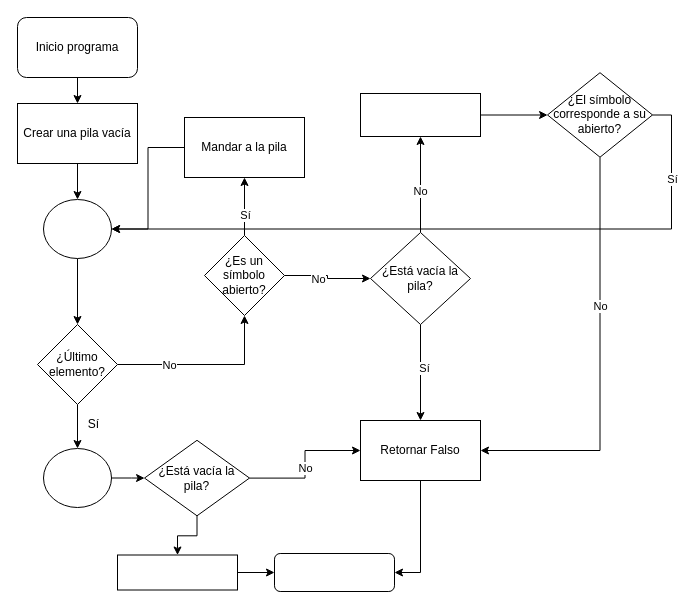
This 697x609 diagram has some shape labels left out. The box of each missing label's shape, as (x1, y1, x2, y2) in pixels:
Fin programa: (274, 552, 394, 592)
Hacer pop a la pila: (360, 92, 480, 136)
Iterar: (42, 198, 112, 258)
Parar de iterar: (42, 448, 112, 508)
Retornar True: (116, 554, 238, 590)
